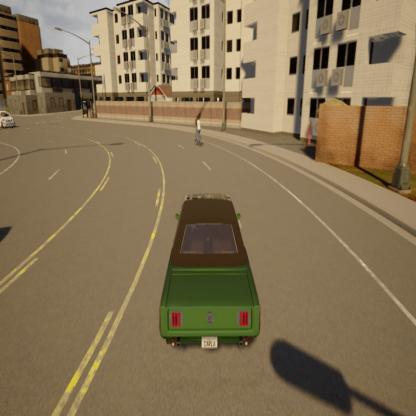Cars: (153, 185, 265, 364), (0, 106, 18, 134)
